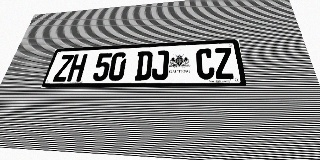0: (107, 52, 127, 81)
5: (92, 53, 113, 81)
C: (196, 48, 215, 80)
D: (134, 51, 153, 80)
H: (66, 54, 88, 82)
J: (151, 50, 169, 80)
Z: (213, 47, 235, 79), (52, 55, 74, 82)
